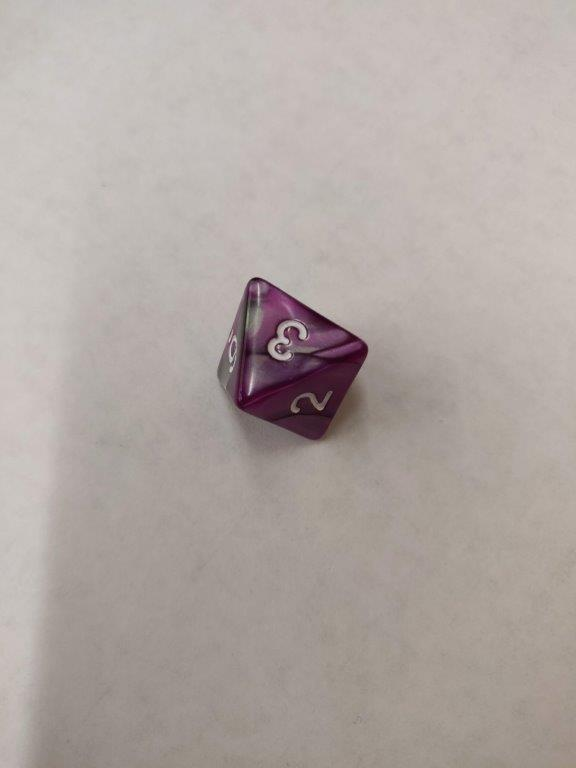d8-3: (211, 274, 374, 446)
